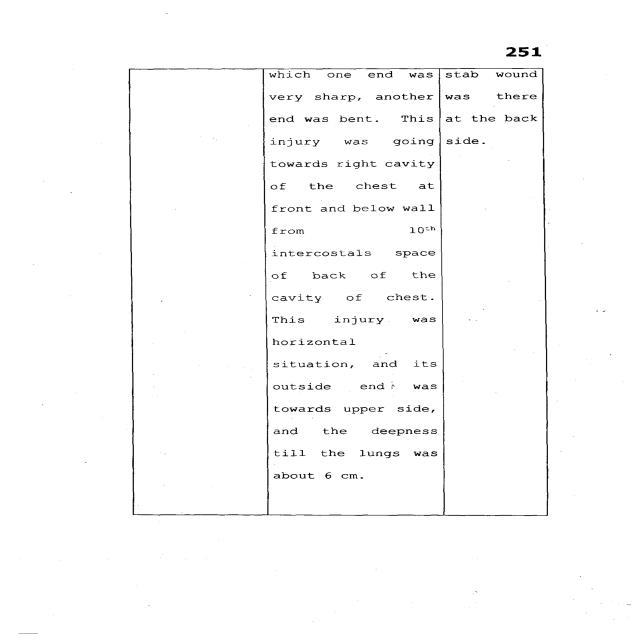page-number: (424, 0, 631, 62)
